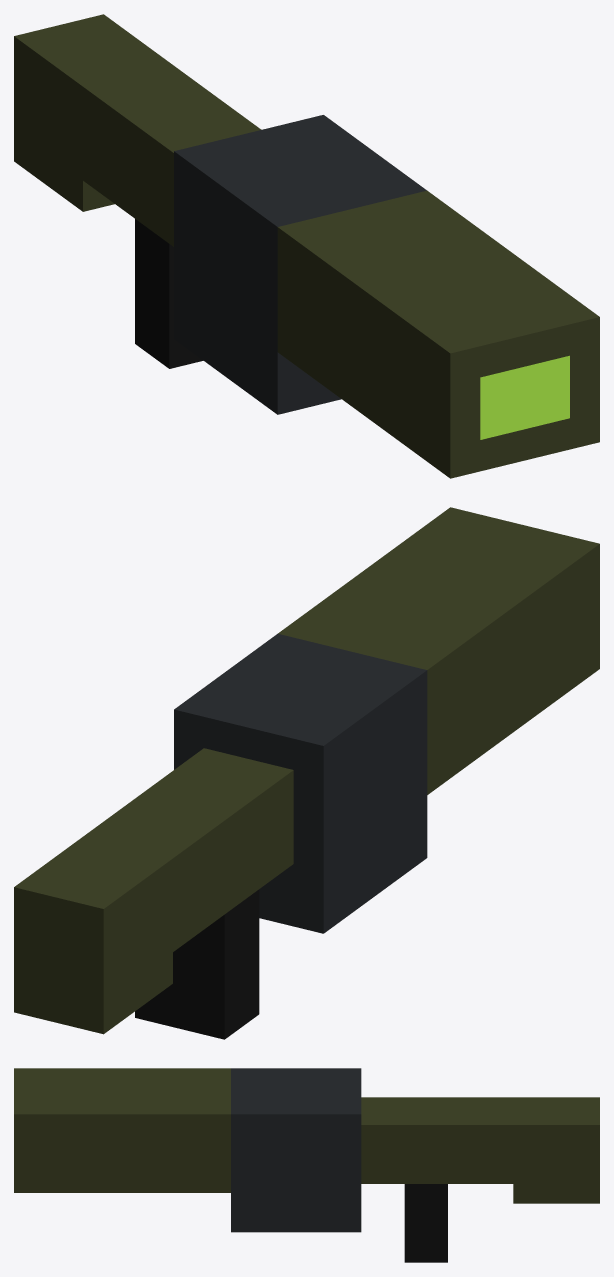
The model's file is vox_glauncher.glb.
3 renders of one model, top to bottom at view 1: azimuth 30°, elevation 25°; view 2: azimuth 150°, elevation 25°; view 3: azimuth 270°, elevation 25°, orthographic. The views are drawn at different scales.
Parts seen in each view (by area): view 1: vox_glauncher; view 2: vox_glauncher; view 3: vox_glauncher.
Part boxes in pixels (x1,y1,x2,y2): vox_glauncher: (14,14,599,478); vox_glauncher: (14,507,599,1039); vox_glauncher: (14,1068,599,1262).
Size of the model in its own units: 0.1 by 0.16 by 0.54.
